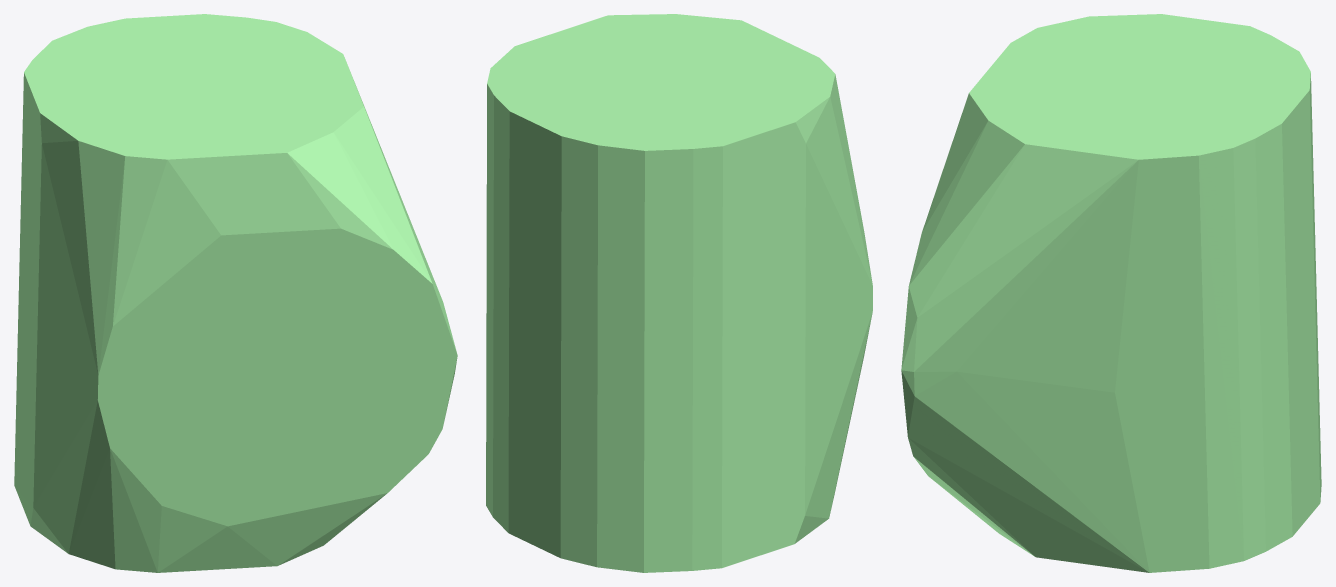
Rendered from dvkr_robot_R_link_respondable_coll_1.dae.
3 views of the same model, side by side, from view 1: azimuth 30°, elevation 25°; view 2: azimuth 150°, elevation 25°; view 3: azimuth 270°, elevation 25° (orthographic).
Visible parts, largest first — view 1: Node_0000023514CD7BC0; view 2: Node_0000023514CD7BC0; view 3: Node_0000023514CD7BC0.
Boxes of the visible parts, <box> form: Node_0000023514CD7BC0: <box>14,14,457,572</box>; Node_0000023514CD7BC0: <box>486,14,872,572</box>; Node_0000023514CD7BC0: <box>901,14,1321,572</box>.
Size of the model in its own units: 0.1329 by 0.1784 by 0.1605.
